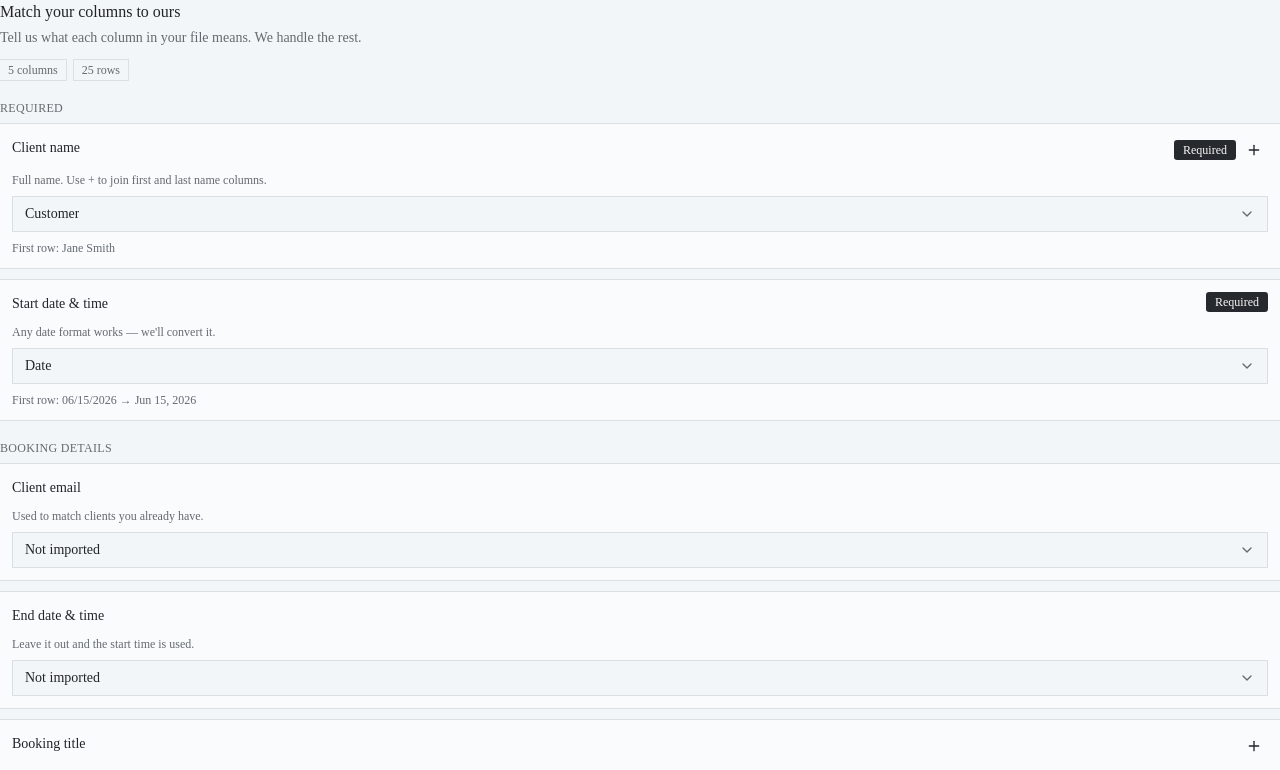
Scenario: ImportColumnMapping › opens a second picker when combining with another column
Click the button named "Combine with another column" in the row of "Client name". click: (1254, 150)
box: [1240,136,1268,164]
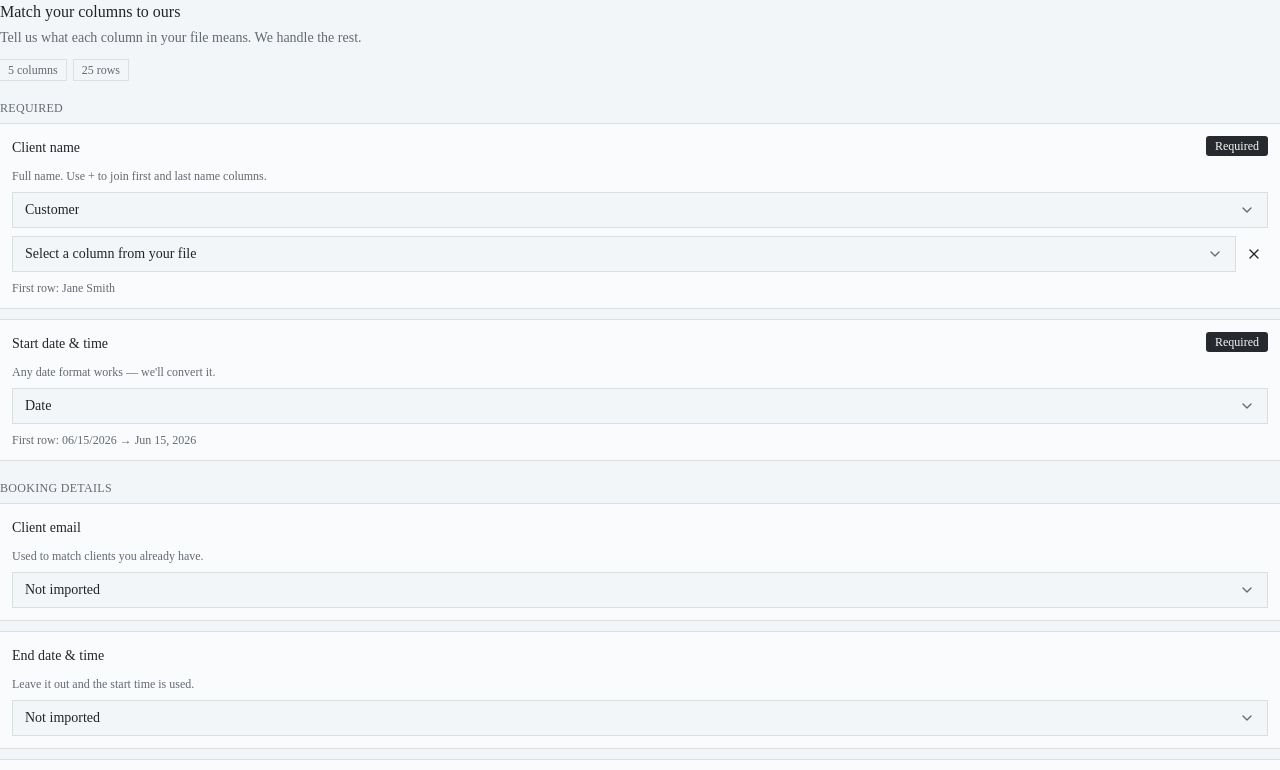
Expected: the dropdown named "Client name, column 2" is shown, [12,236,1236,272]
